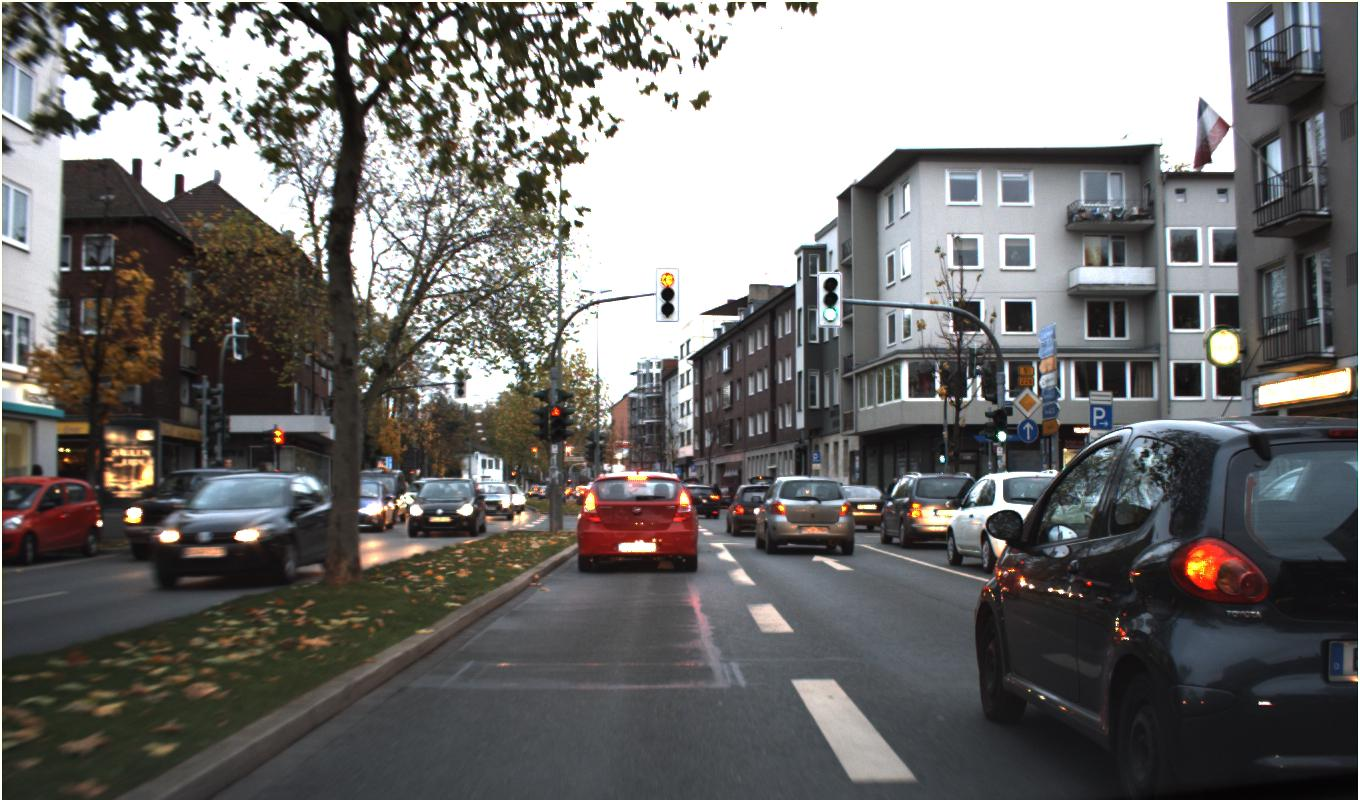mandatory: (1017, 418, 1038, 443)
sign: (1011, 385, 1043, 418)
